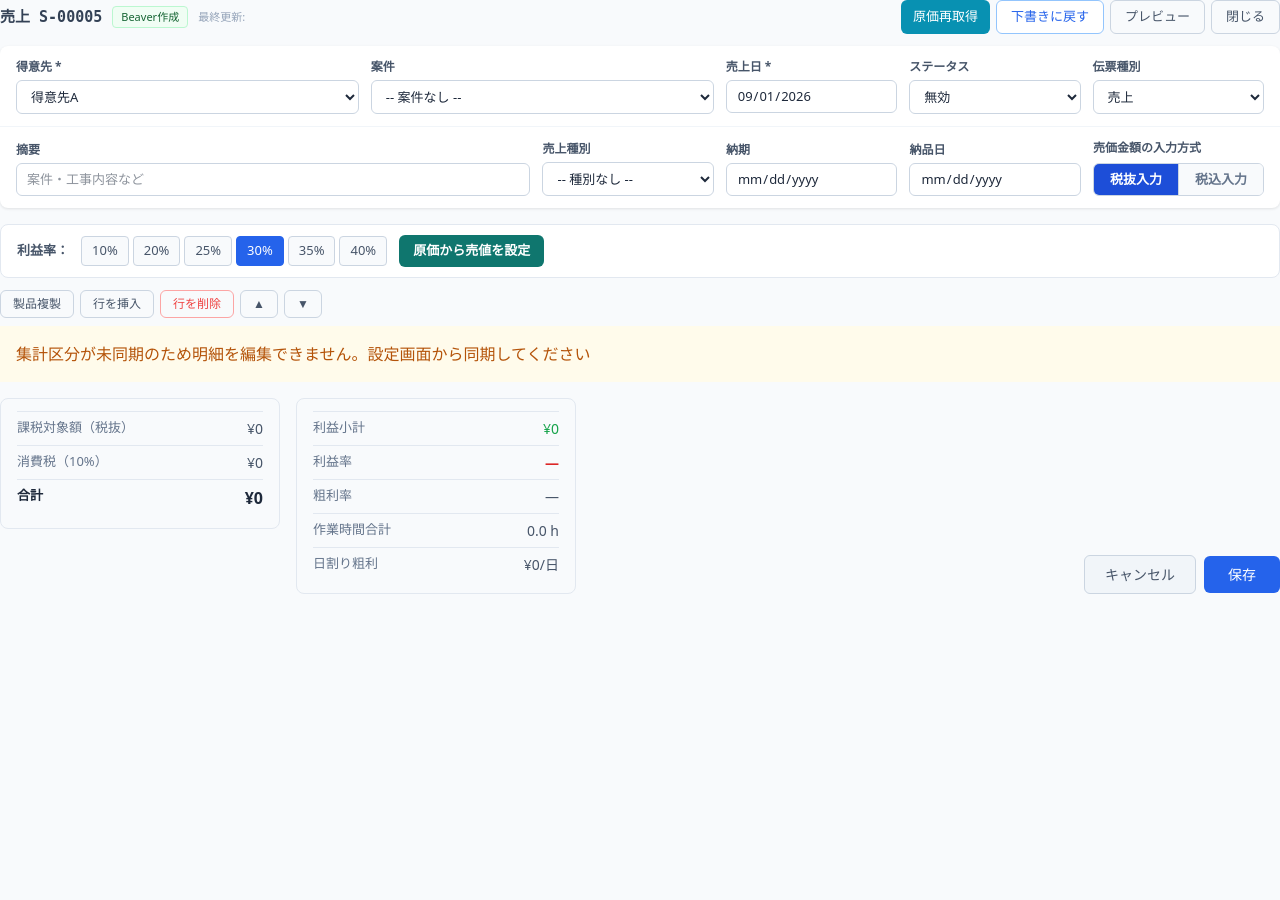
Test: R-0170: 取消した伝票を下書きに戻す › やめるを押すと API を呼ばない
Click the button "下書きに戻す" at (1050, 17), box [996,0,1104,34]
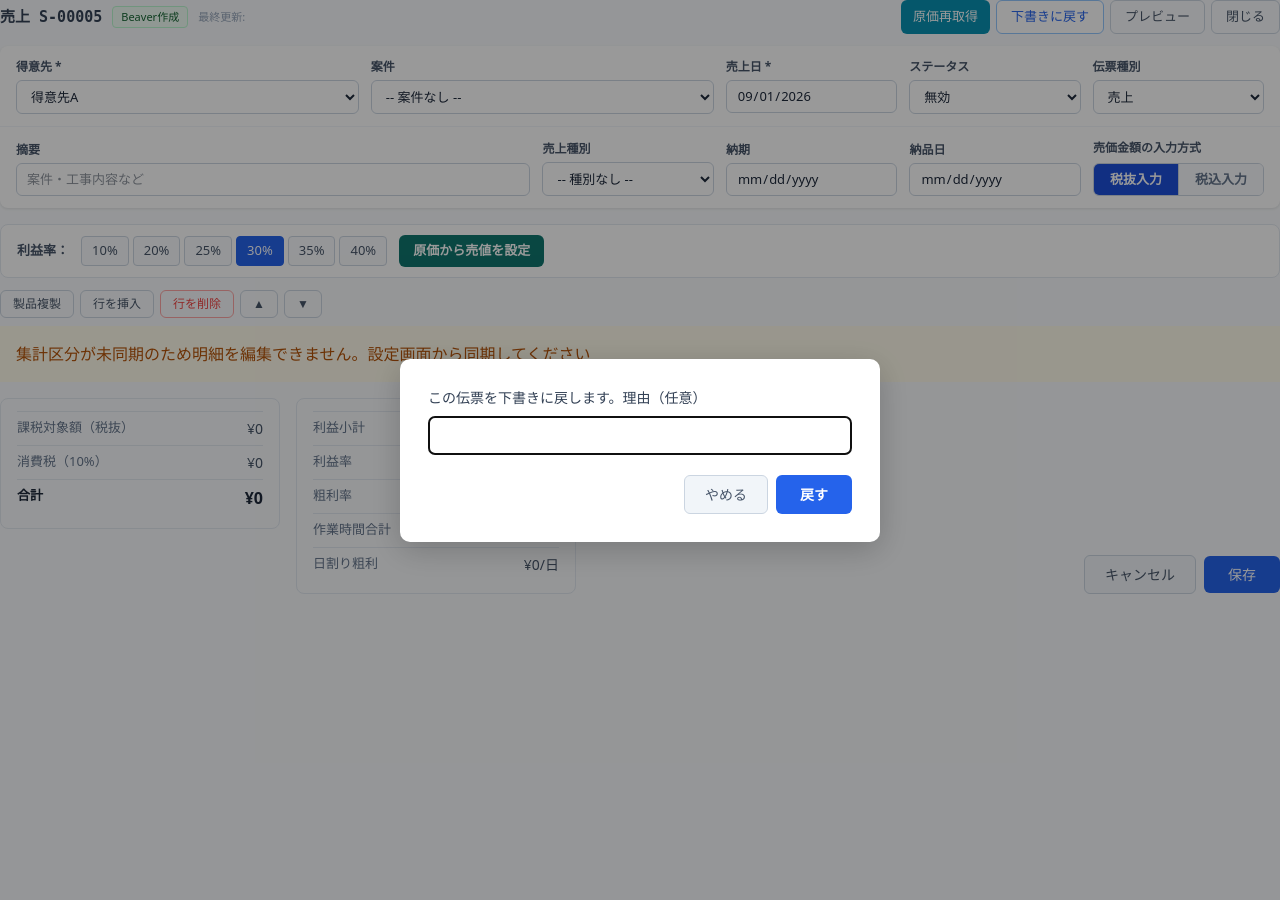
Click the button "やめる" at (726, 494), box [684,474,768,514]
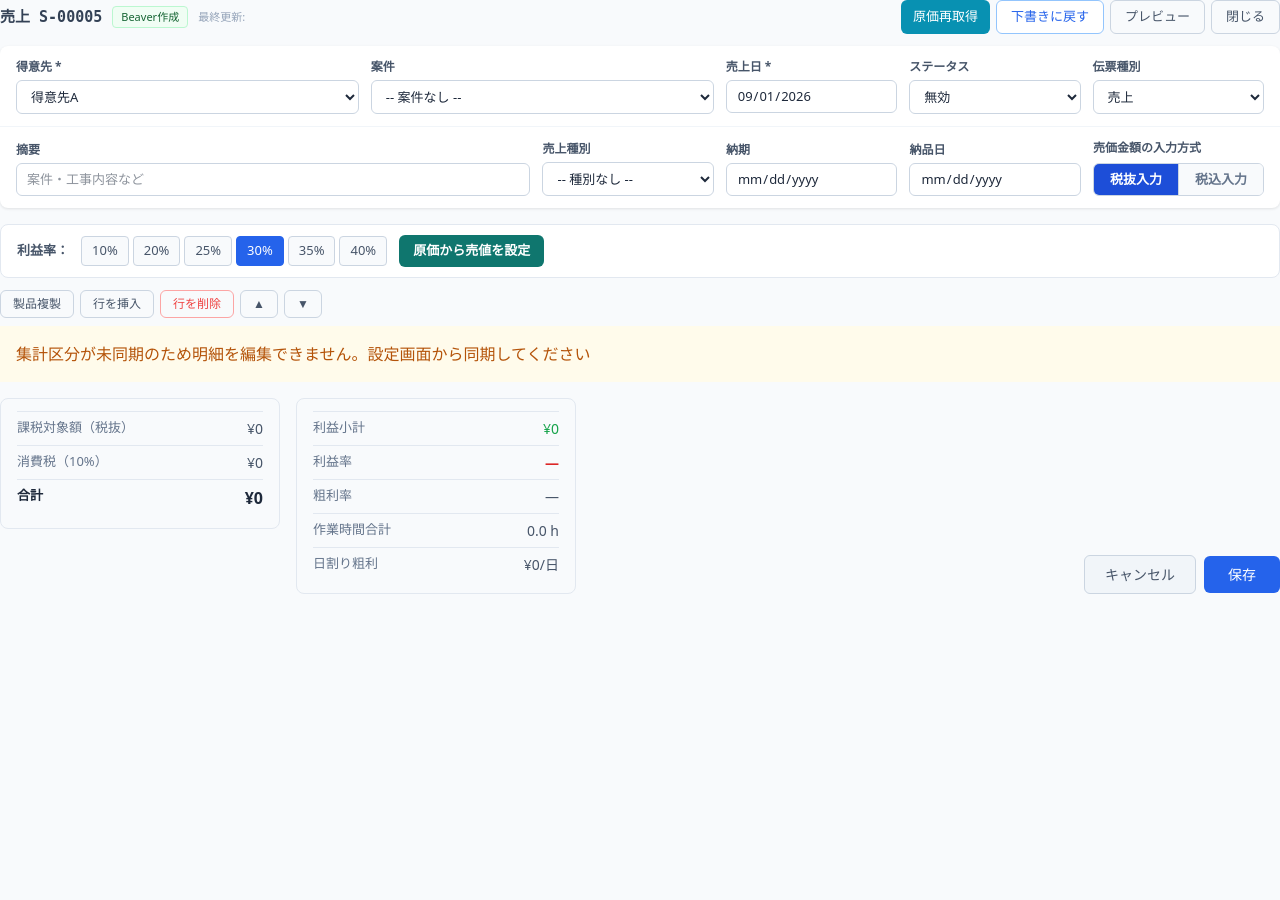
Now the text "この伝票を下書きに戻します。理由（任意）" is gone
